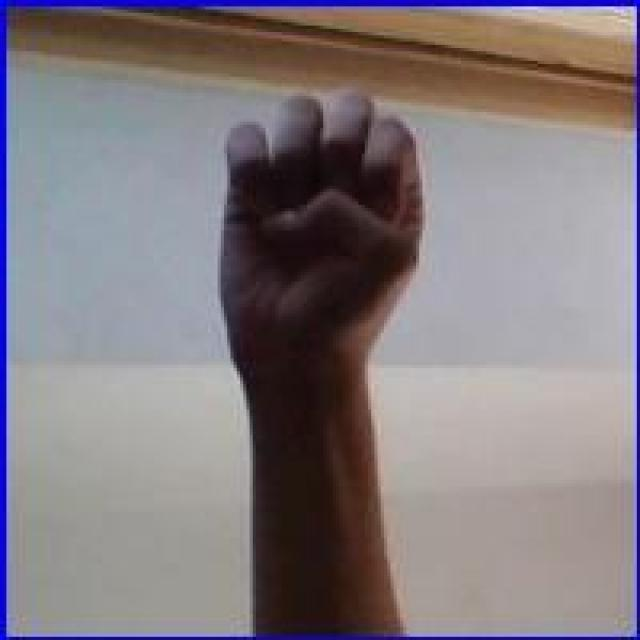E: (219, 88, 424, 398)
